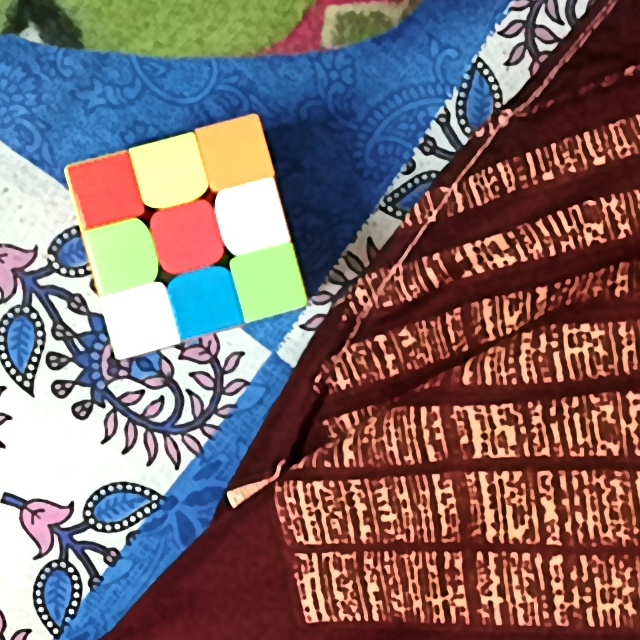tile: (82, 168, 133, 218), (115, 293, 162, 345), (144, 149, 193, 197), (229, 194, 275, 241), (99, 231, 144, 279), (216, 130, 259, 177), (166, 216, 209, 263), (183, 282, 229, 324), (248, 261, 290, 307)
